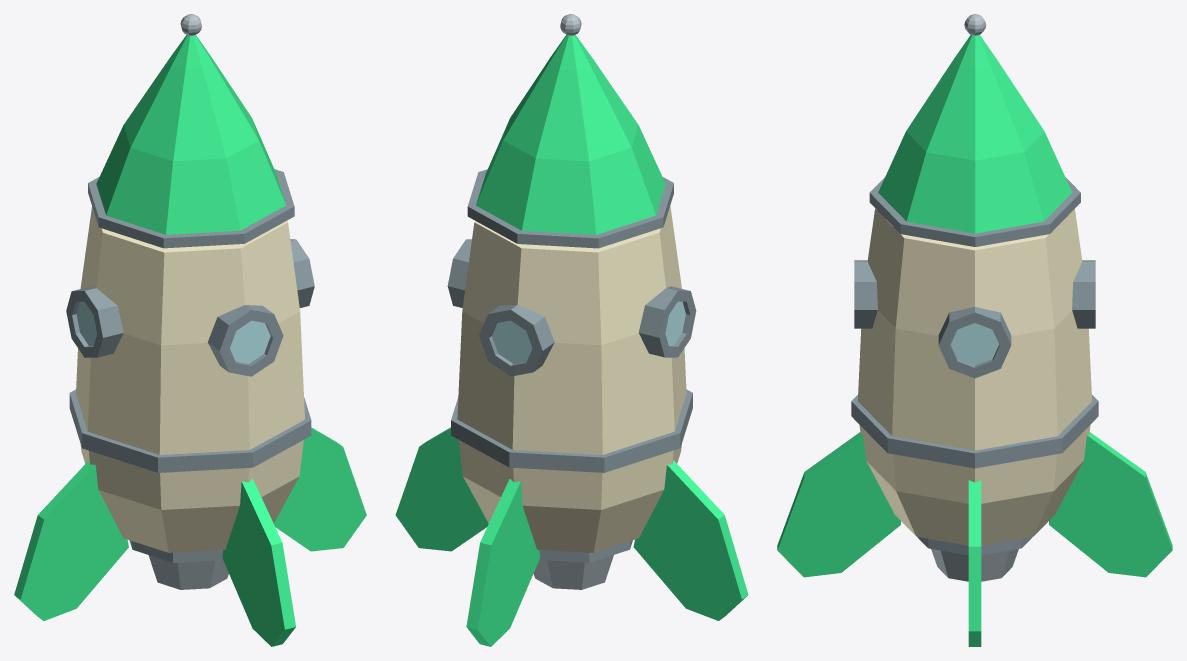
The model's file is ship.gltf.
3 views of the same model, side by side, from view 1: azimuth 30°, elevation 25°; view 2: azimuth 150°, elevation 25°; view 3: azimuth 270°, elevation 25° (orthographic).
Visible parts, largest first — view 1: body01002_Rocket_Ship_Circle001, thrusterbase001_Rocket_Ship_Circle047, Cone01002, thrusterbase_Rocket_Ship_Circle038, thrusterbase002_Rocket_Ship_Circle048, Cone01001, body01003_Rocket_Ship_Circle002, body01001_Rocket_Ship_Circle000, body01004_Rocket_Ship_Circle003, thrusterbase003_Rocket_Ship_Circle049, body01_Rocket_Ship_Circle024, body01006_Rocket_Ship_Circle008; view 2: body01002_Rocket_Ship_Circle001, thrusterbase001_Rocket_Ship_Circle047, Cone01002, thrusterbase_Rocket_Ship_Circle038, body01001_Rocket_Ship_Circle000, Cone01001, thrusterbase002_Rocket_Ship_Circle048, body01005_Rocket_Ship_Circle006, body01004_Rocket_Ship_Circle003, thrusterbase003_Rocket_Ship_Circle049, body01_Rocket_Ship_Circle024, body01006_Rocket_Ship_Circle008; view 3: body01002_Rocket_Ship_Circle001, thrusterbase001_Rocket_Ship_Circle047, Cone01002, thrusterbase_Rocket_Ship_Circle038, thrusterbase002_Rocket_Ship_Circle048, Cone01001, body01001_Rocket_Ship_Circle000, body01006_Rocket_Ship_Circle008, thrusterbase003_Rocket_Ship_Circle049, body01_Rocket_Ship_Circle024, body01005_Rocket_Ship_Circle006, body01003_Rocket_Ship_Circle002.
Part boxes in pixels (x1,y1,x2,y2): body01002_Rocket_Ship_Circle001: [76, 206, 304, 454]; thrusterbase001_Rocket_Ship_Circle047: [14, 427, 366, 646]; Cone01002: [96, 34, 286, 234]; thrusterbase_Rocket_Ship_Circle038: [80, 440, 303, 552]; thrusterbase002_Rocket_Ship_Circle048: [69, 398, 311, 562]; Cone01001: [88, 169, 294, 248]; body01003_Rocket_Ship_Circle002: [207, 305, 283, 376]; body01001_Rocket_Ship_Circle000: [69, 389, 311, 466]; body01004_Rocket_Ship_Circle003: [66, 286, 123, 357]; thrusterbase003_Rocket_Ship_Circle049: [148, 555, 228, 589]; body01_Rocket_Ship_Circle024: [76, 301, 270, 363]; body01006_Rocket_Ship_Circle008: [290, 239, 314, 307]; body01002_Rocket_Ship_Circle001: [457, 206, 686, 454]; thrusterbase001_Rocket_Ship_Circle047: [395, 427, 748, 646]; Cone01002: [476, 35, 665, 234]; thrusterbase_Rocket_Ship_Circle038: [458, 440, 681, 552]; body01001_Rocket_Ship_Circle000: [451, 389, 692, 468]; Cone01001: [467, 169, 673, 248]; thrusterbase002_Rocket_Ship_Circle048: [451, 397, 692, 562]; body01005_Rocket_Ship_Circle006: [479, 305, 554, 376]; body01004_Rocket_Ship_Circle003: [638, 286, 696, 357]; thrusterbase003_Rocket_Ship_Circle049: [533, 555, 613, 589]; body01_Rocket_Ship_Circle024: [492, 301, 685, 363]; body01006_Rocket_Ship_Circle008: [447, 239, 471, 307]; body01002_Rocket_Ship_Circle001: [858, 208, 1091, 450]; thrusterbase001_Rocket_Ship_Circle047: [777, 432, 1172, 646]; Cone01002: [878, 34, 1072, 233]; thrusterbase_Rocket_Ship_Circle038: [859, 425, 1090, 545]; thrusterbase002_Rocket_Ship_Circle048: [851, 405, 1098, 555]; Cone01001: [869, 177, 1080, 246]; body01001_Rocket_Ship_Circle000: [851, 395, 1098, 464]; body01006_Rocket_Ship_Circle008: [938, 307, 1011, 378]; thrusterbase003_Rocket_Ship_Circle049: [931, 549, 1018, 581]; body01_Rocket_Ship_Circle024: [950, 323, 999, 365]; body01005_Rocket_Ship_Circle006: [1072, 260, 1095, 328]; body01003_Rocket_Ship_Circle002: [854, 260, 877, 328].
Bounding box in the file's own units: 6.59 × 10.31 × 6.59.
